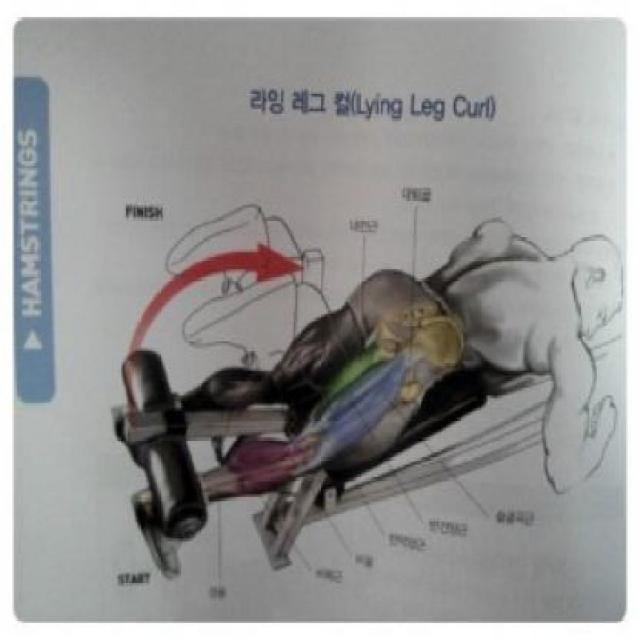reg curl machine: (95, 212, 640, 600)
